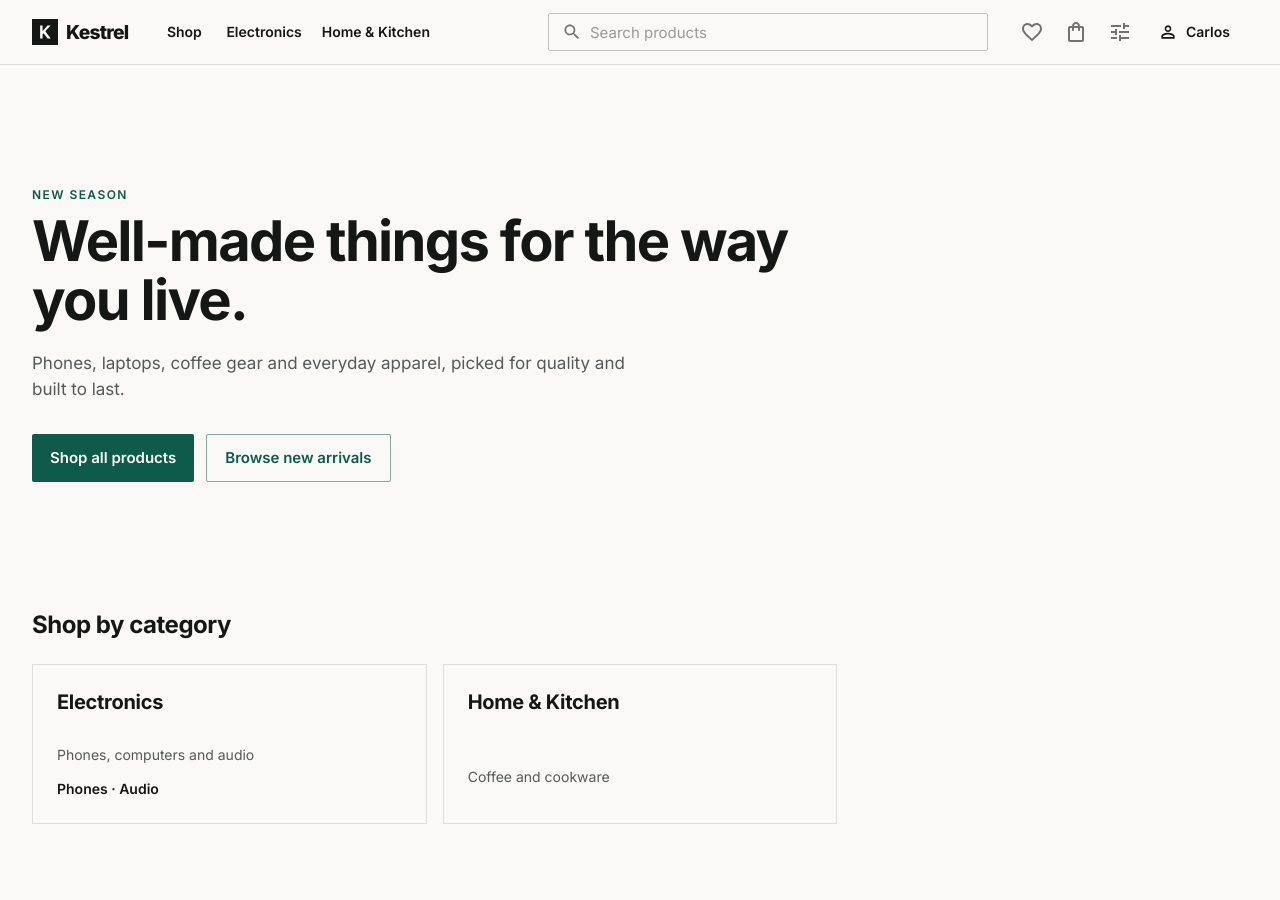
authentication › signs out and returns to the anonymous header
Click the button "Carlos".
click(1196, 32)  # box [1144,12,1248,52]
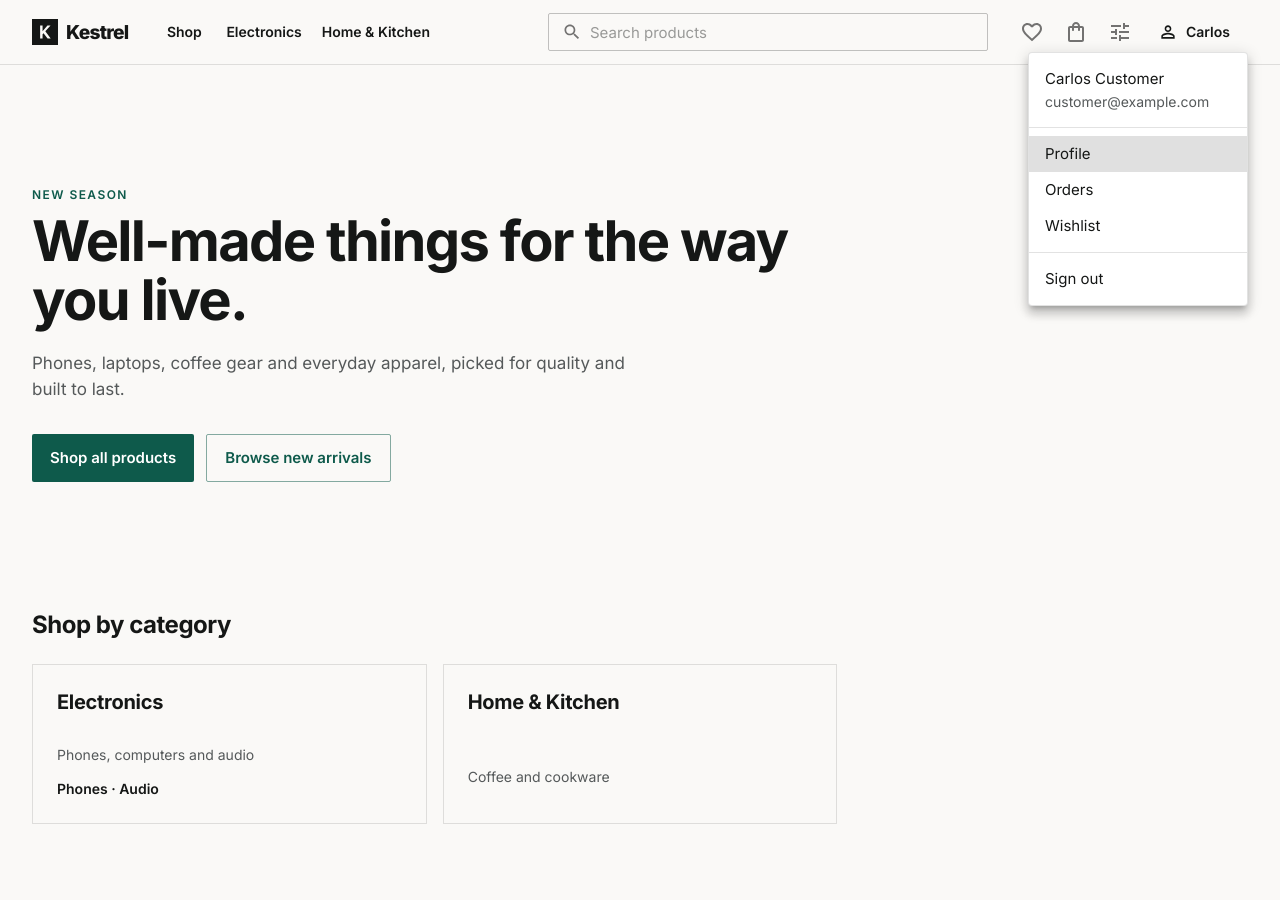
Click the menu item "Sign out".
click(1074, 278)  # box [1045,269,1103,288]
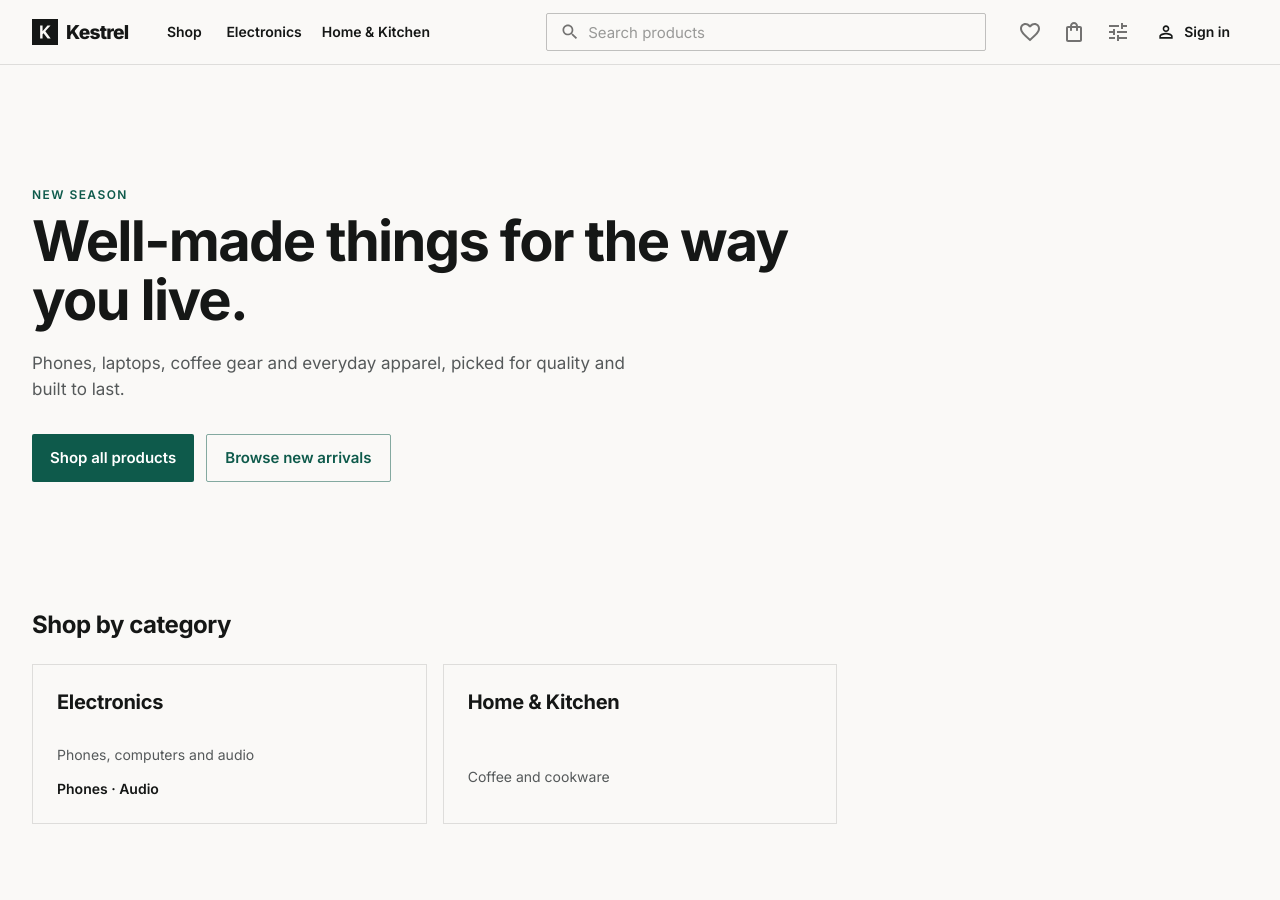
Check: the link "Sign in" is shown, box [1156,22,1230,42]
